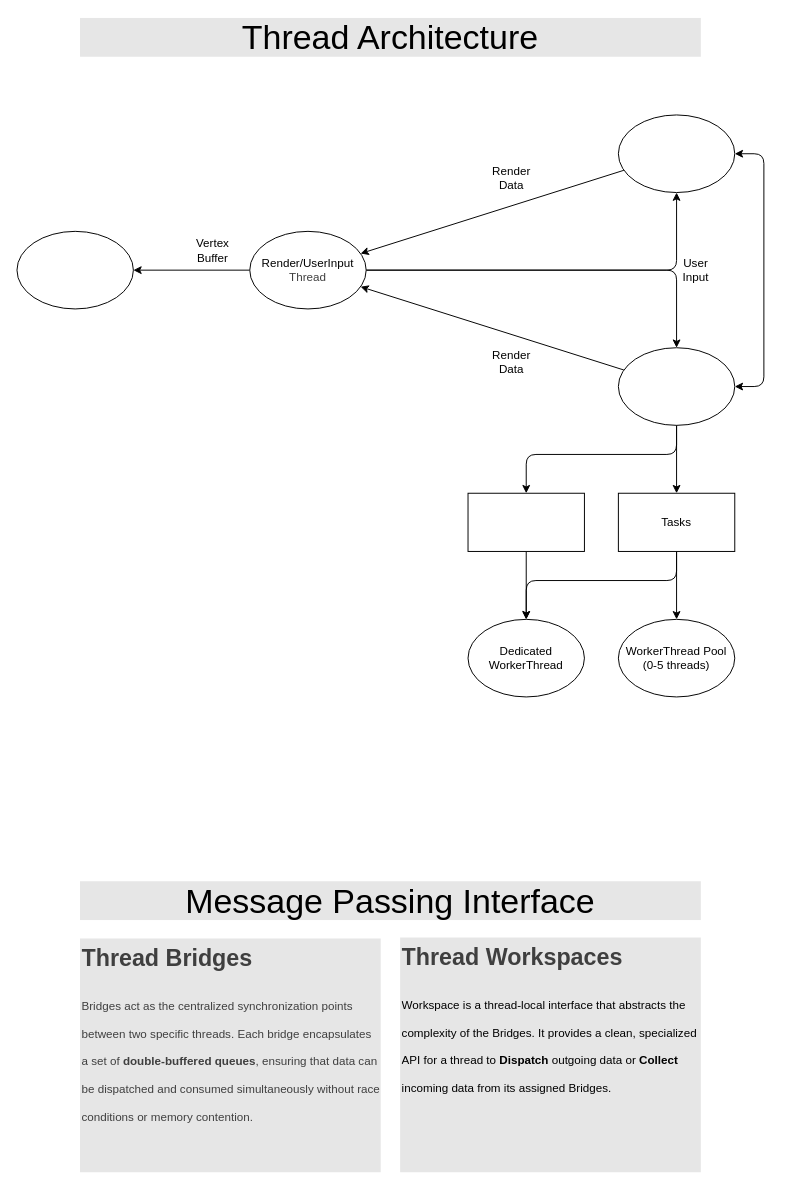
Image size: 790x1191. Some labels were removed from this diagram. The shapes that lost their labels are listed below. From the top down, each one's box as (x1, y1, x2, y2) in pixels, then its label:
(617, 114, 735, 193): UI Thread
(16, 230, 133, 309): GPU
(617, 347, 735, 425): CoreThread
(467, 492, 584, 551): Tasks ( Map Tick)
